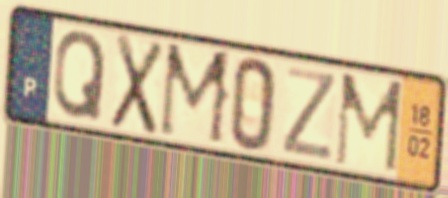0: (227, 54, 279, 155)
M: (156, 40, 236, 150), (331, 70, 406, 177)
Q: (50, 27, 109, 123)
X: (107, 29, 167, 139)
Z: (279, 63, 339, 164)
